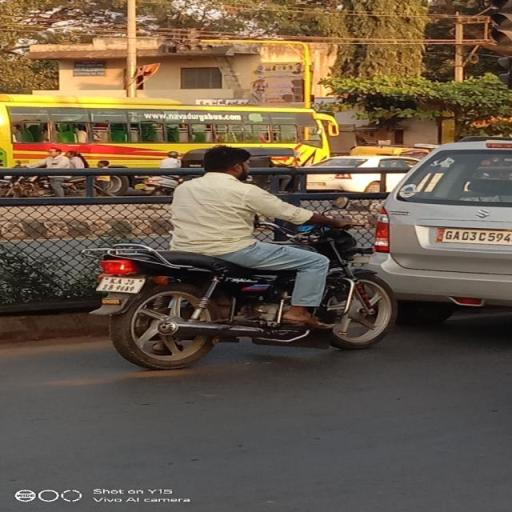bike: (84, 144, 400, 370)
numberplate: (97, 273, 147, 300)
withouthelmet: (205, 146, 249, 174)
